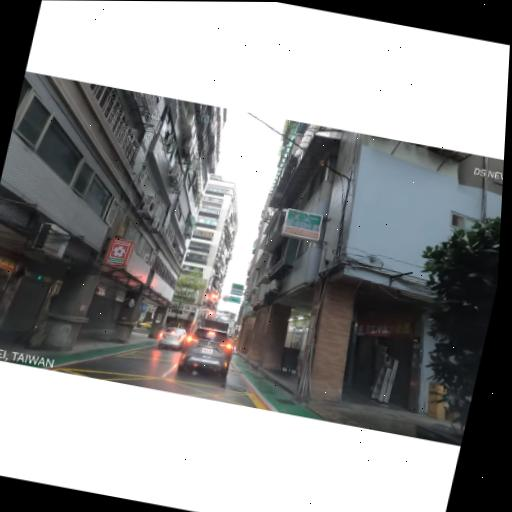Car: (176, 322, 237, 375), (192, 315, 232, 361), (156, 322, 189, 353), (136, 316, 168, 334)
